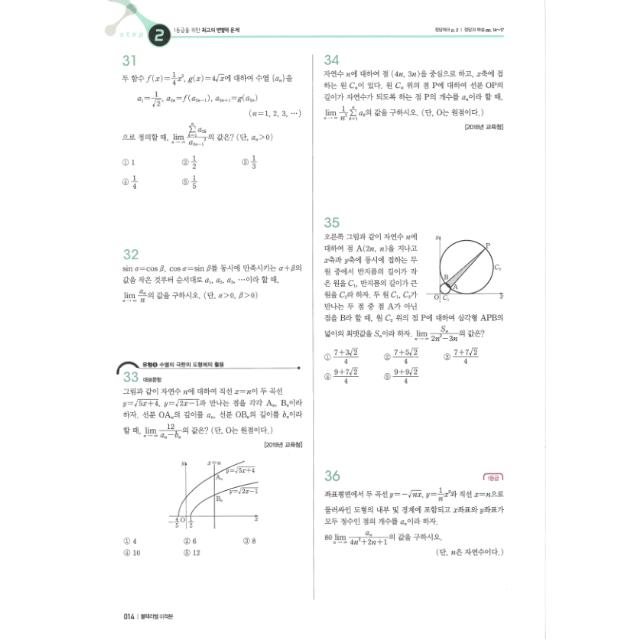multiple: (105, 352, 307, 566), (316, 208, 510, 392), (111, 44, 307, 216)
short: (318, 461, 512, 569), (315, 44, 509, 140), (112, 240, 306, 312)
